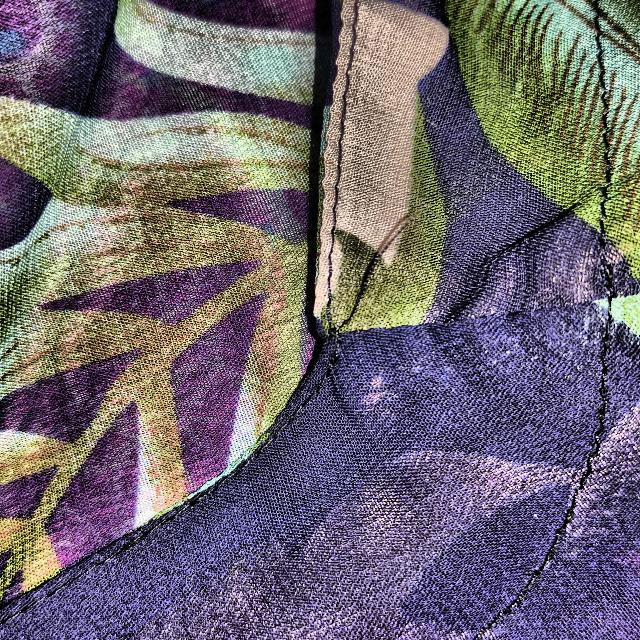Stitch: (331, 170, 487, 444)
